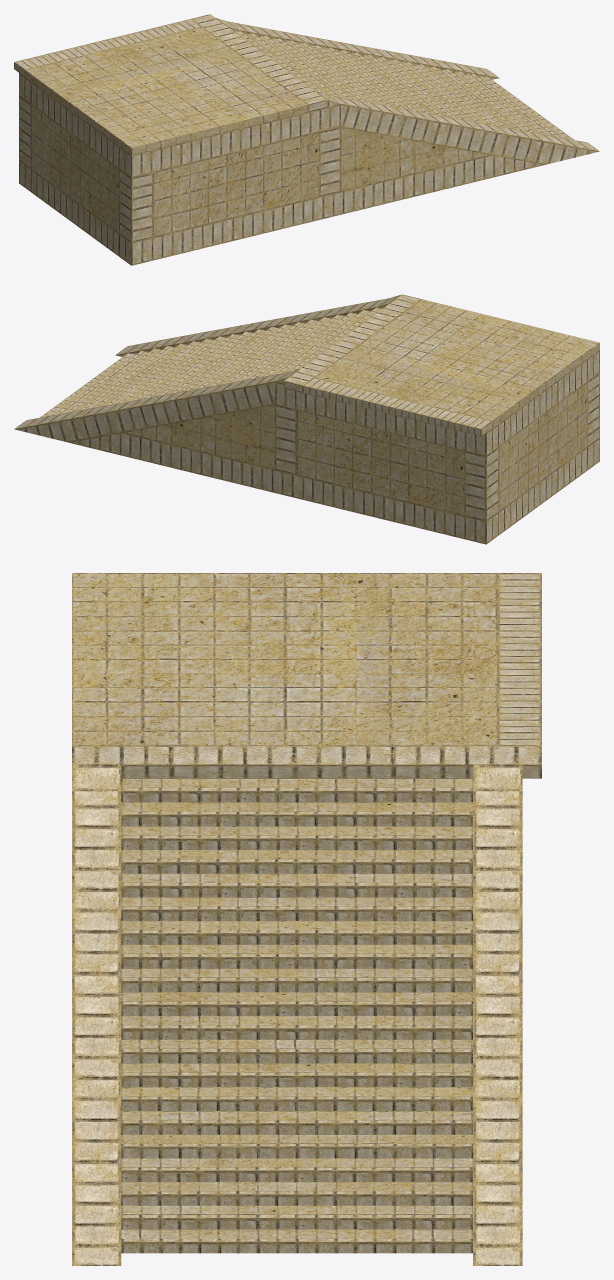
The model's file is tutorial_structure_stairs04.dae.
3 renders of one model, top to bottom at view 1: azimuth 30°, elevation 25°; view 2: azimuth 150°, elevation 25°; view 3: azimuth 270°, elevation 25°, orthographic. The views are drawn at different scales.
Visible parts, largest first — view 1: tutorial_structure_stairs04; view 2: tutorial_structure_stairs04; view 3: tutorial_structure_stairs04.
Part boxes in pixels (bbox=[...]): tutorial_structure_stairs04: bbox=[14, 14, 599, 265]; tutorial_structure_stairs04: bbox=[14, 294, 599, 544]; tutorial_structure_stairs04: bbox=[72, 573, 541, 1265].
Bounding box in the file's own units: 16.2 × 7.04 × 3.89.
2 materials, 2 textured.
